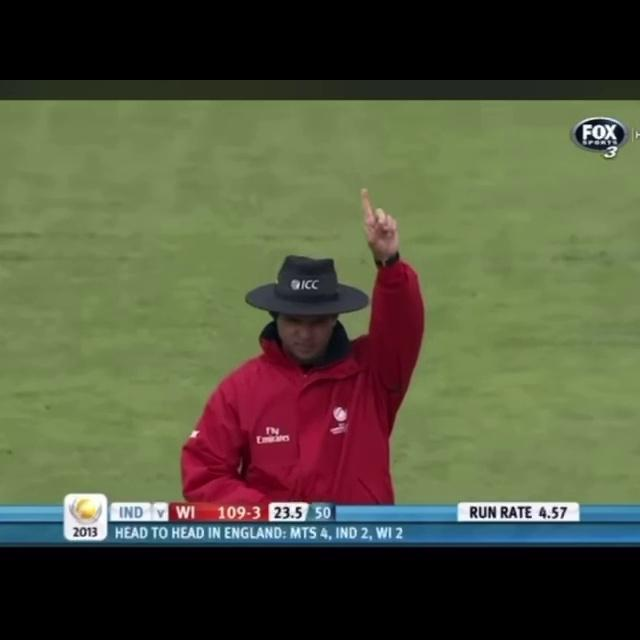umpire: (152, 180, 463, 494)
